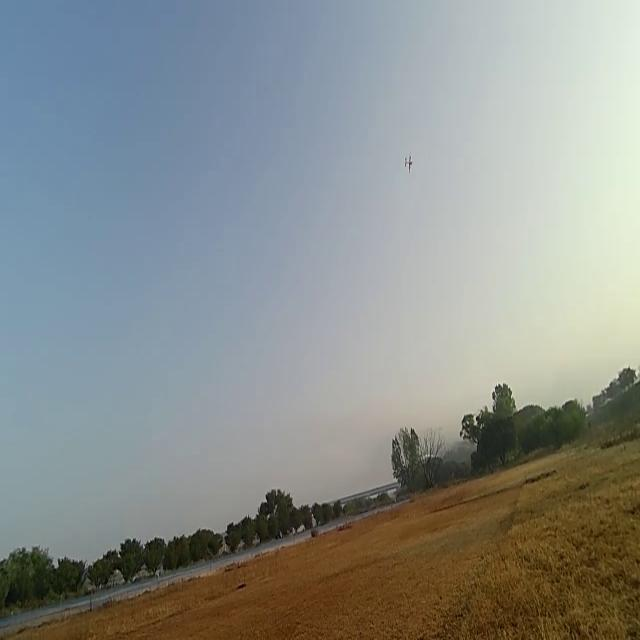iha: (406, 155, 412, 172)
